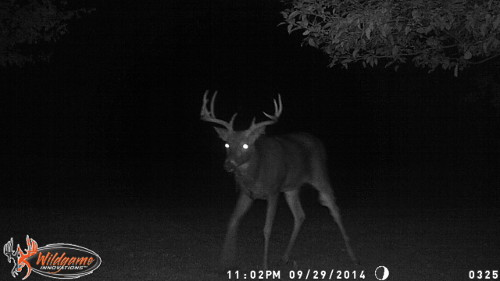deer: (206, 88, 388, 259)
